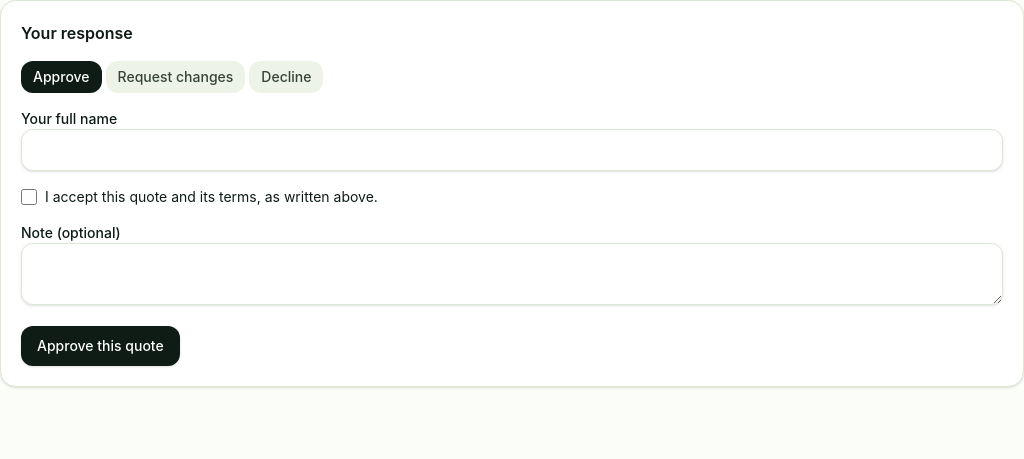
Test: response panel › shows the server's reason when an answer is refused
This screenshot has width=1024, height=459.
Type "Maria" into the field labelled "Your full name".
click(512, 150); type("Maria")  # box [21, 129, 1003, 171]
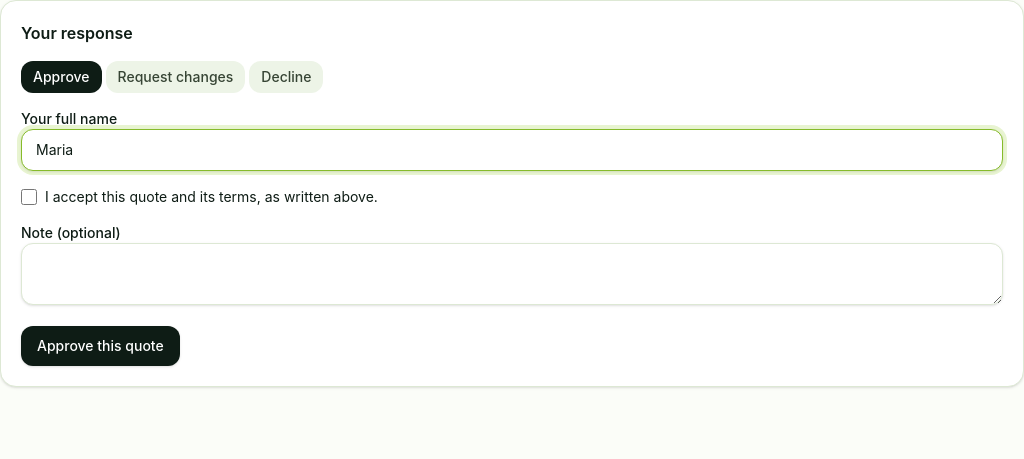
Click the checkbox.
click(29, 197)  # box [21, 189, 37, 205]
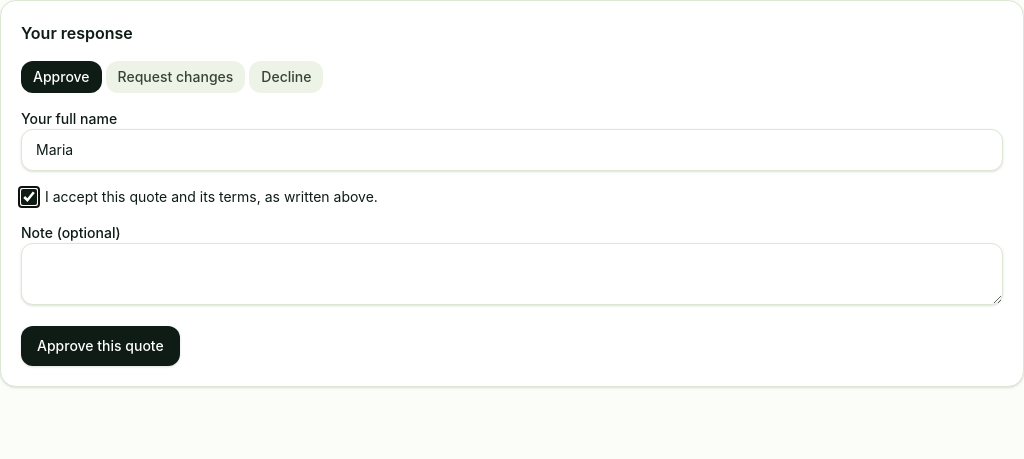
Click the button "Approve this quote".
click(100, 346)  # box [21, 326, 180, 366]
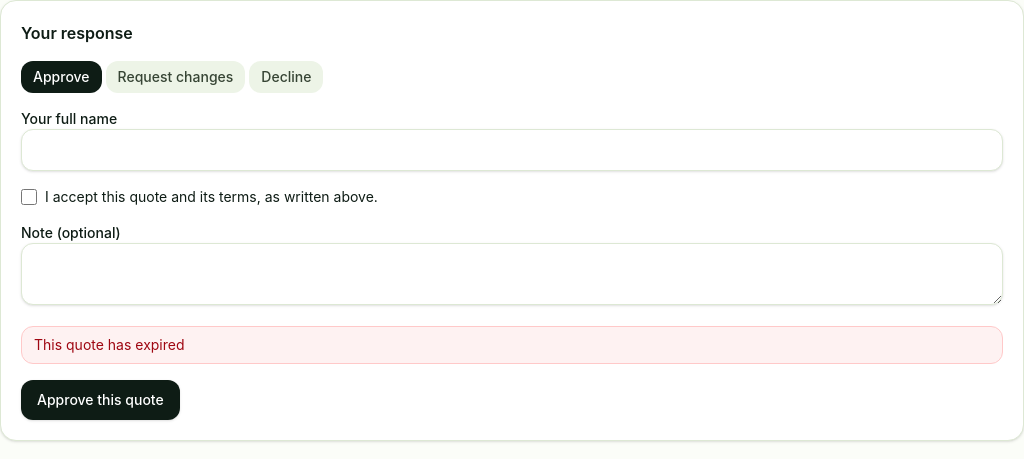
Result: the message reads "This quote has expired" at [34, 336, 184, 353]
